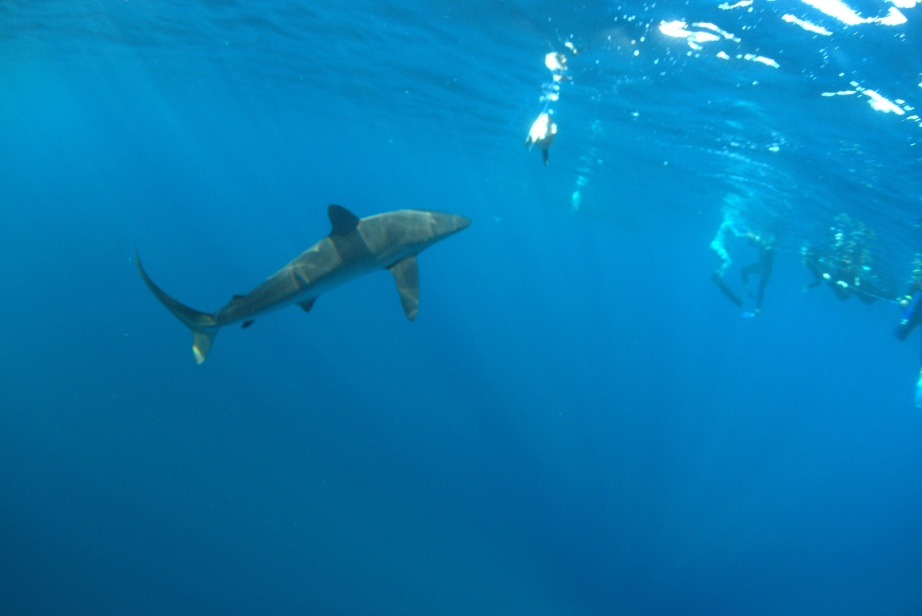Sedoso: (117, 182, 492, 384)
